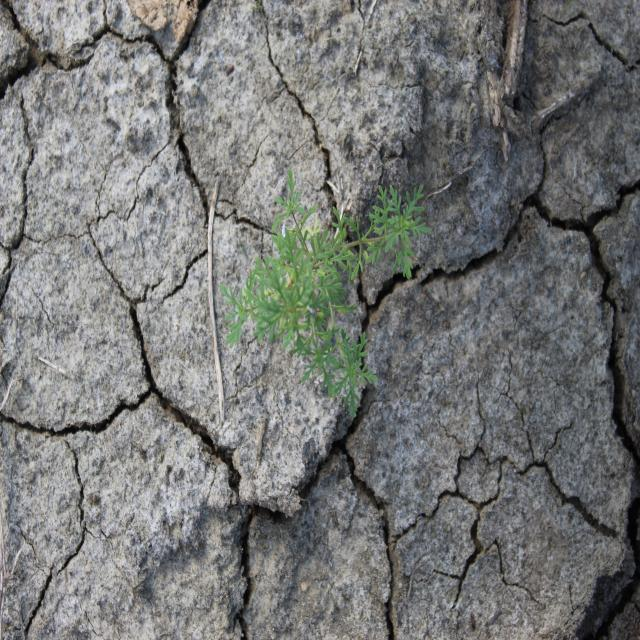Ragweed: (217, 168, 433, 422)
